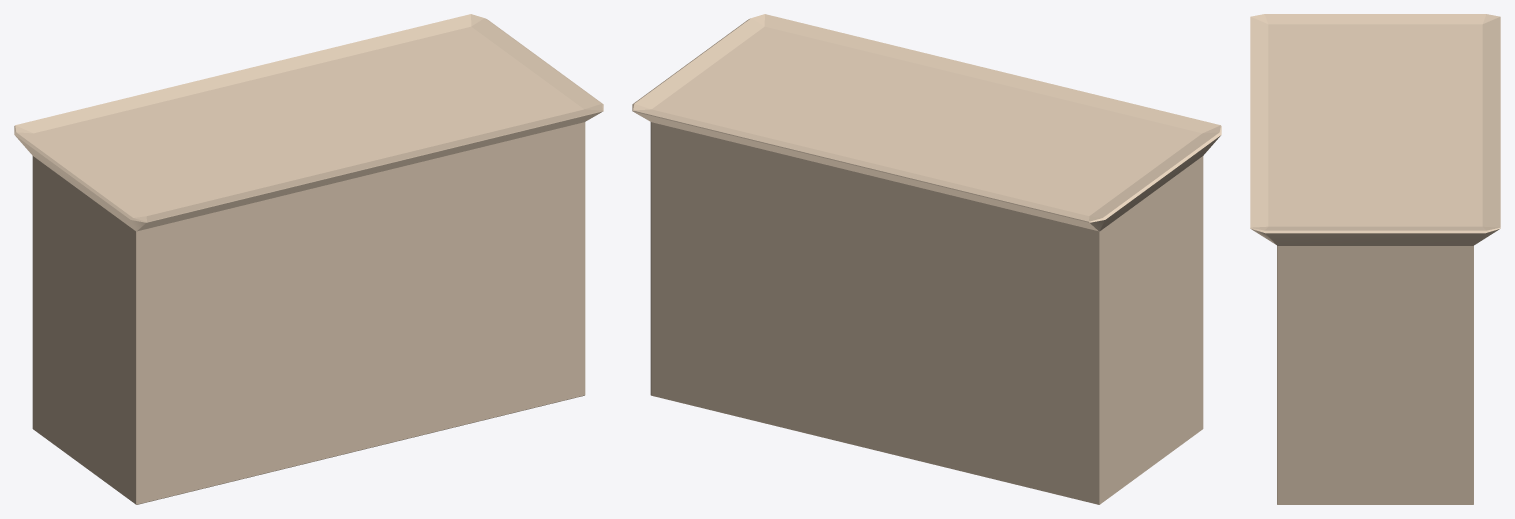
The model's file is Building3.fbx.
3 renders of one model, left to right at view 1: azimuth 30°, elevation 25°; view 2: azimuth 150°, elevation 25°; view 3: azimuth 270°, elevation 25°, orthographic. The views are drawn at different scales.
Parts seen in each view (by area): view 1: pCube4; view 2: pCube4; view 3: pCube4.
Part boxes in pixels (bbox=[...]): pCube4: bbox=[14, 14, 603, 504]; pCube4: bbox=[632, 14, 1221, 504]; pCube4: bbox=[1250, 14, 1500, 504].
Bounding box in the file's own units: 23.72 × 14.11 × 11.47.
